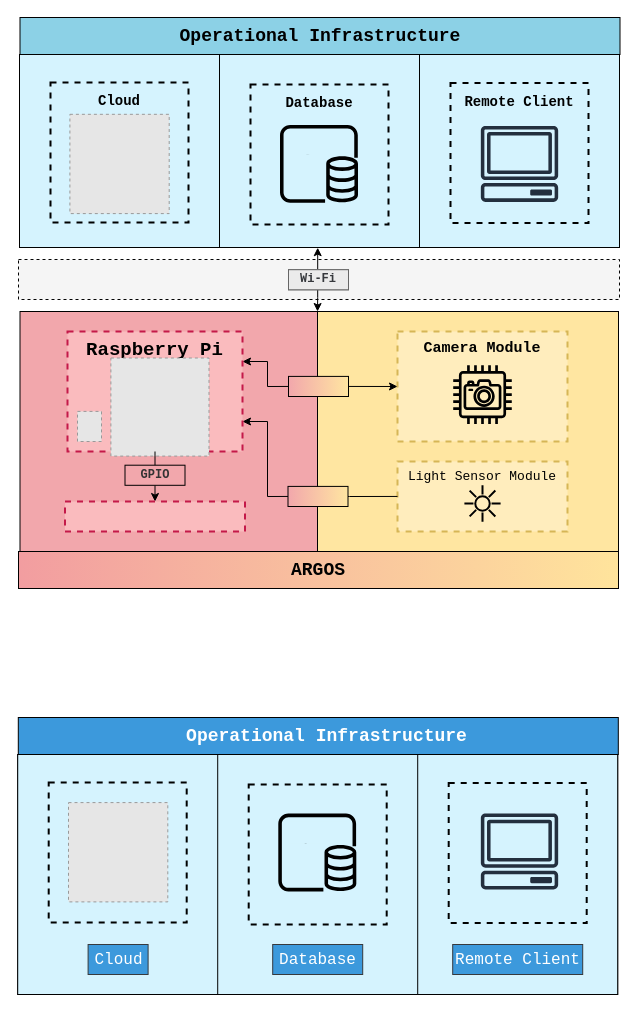
The diagram is 638 pixels wide and 1012 high, and some of its shapes have lost their labels. Grey dashed boxes stand in for pictures. The centre of each missing label's shape, as x and y in pixels:
CSI: point 318,385
SPI/I2C: point 317,495
State Feedback LEDs: point 155,516
